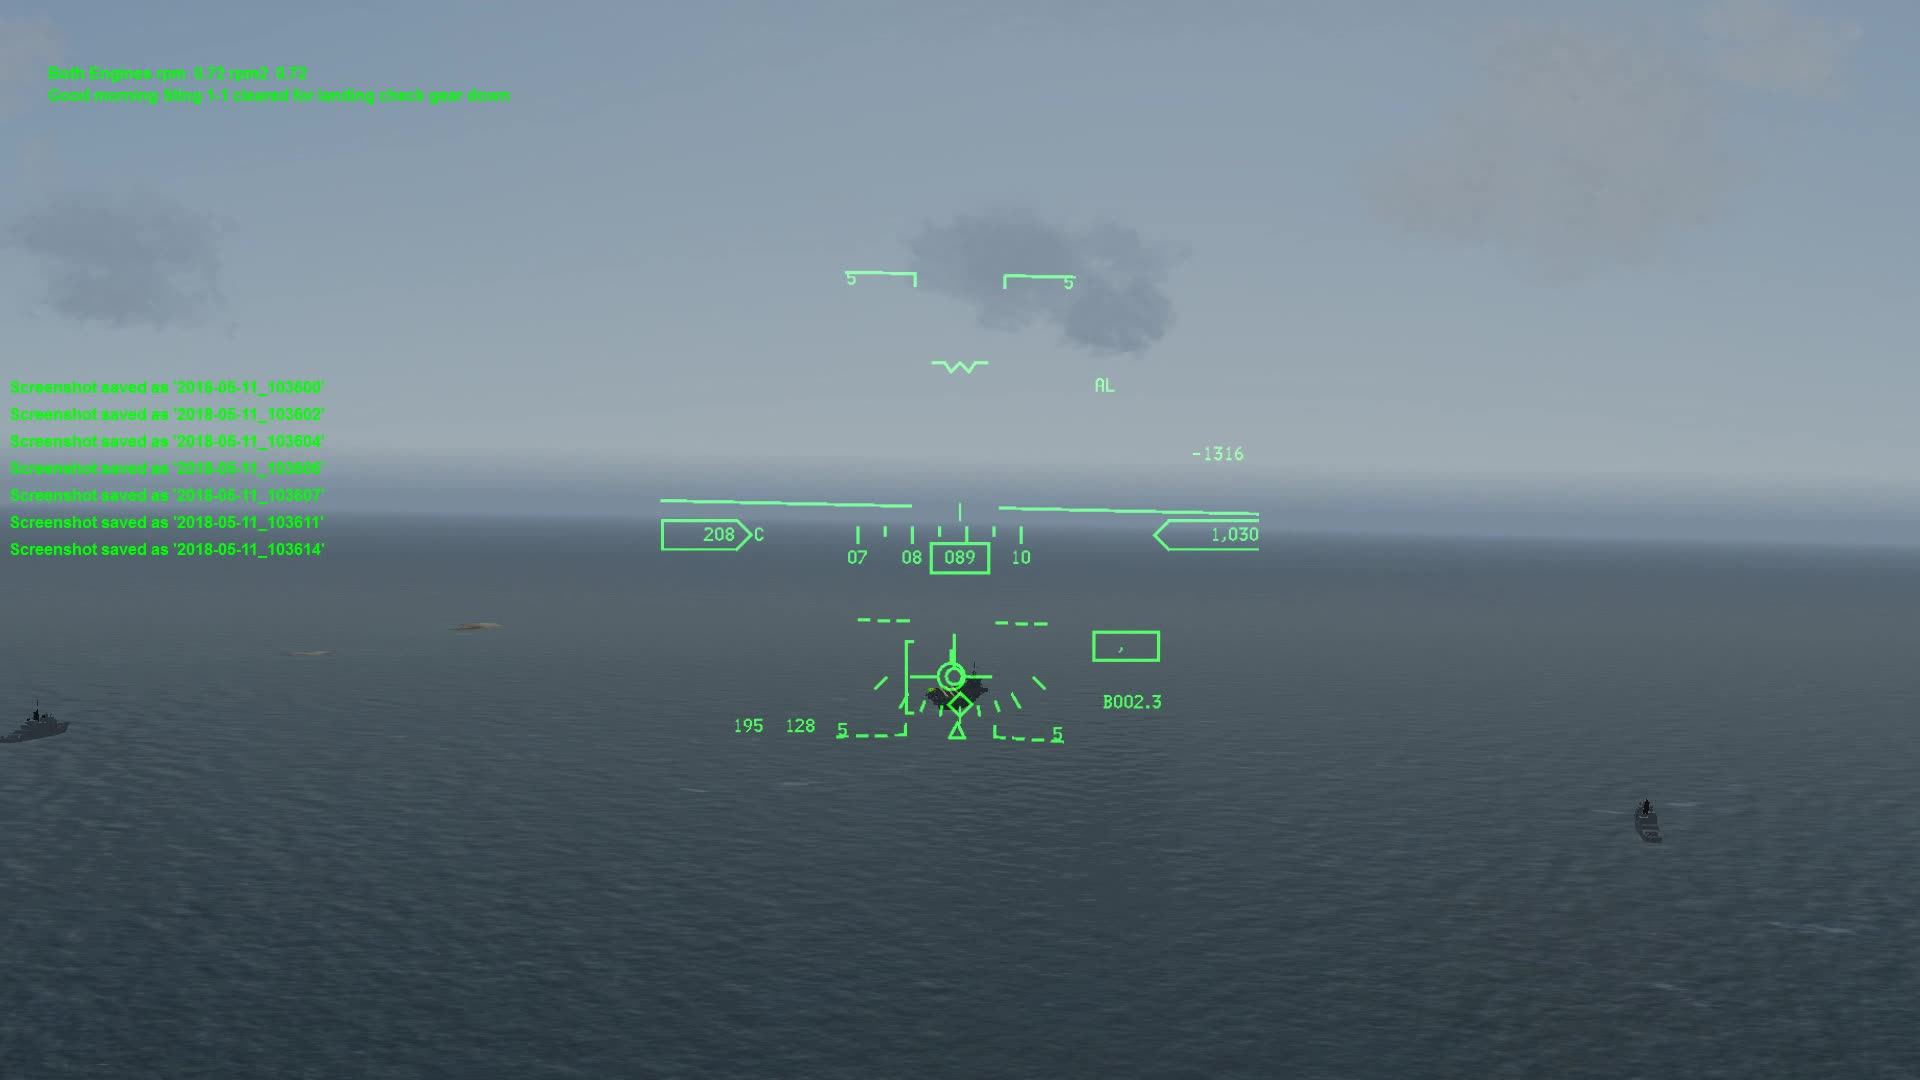speed vector: (916, 641, 996, 694)
